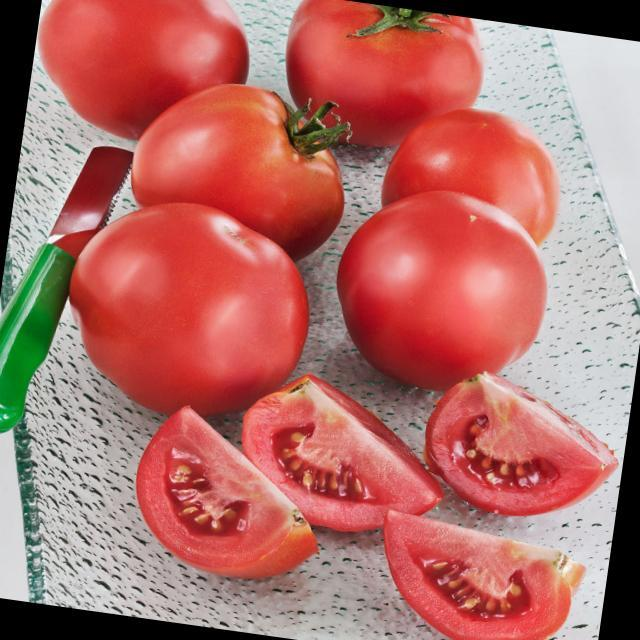TOMATO: (62, 191, 326, 417), (327, 180, 574, 397), (232, 366, 454, 550), (111, 80, 359, 242), (127, 400, 329, 588), (428, 363, 624, 533), (32, 0, 268, 129), (278, 0, 489, 141), (362, 509, 589, 640), (383, 99, 582, 234)
